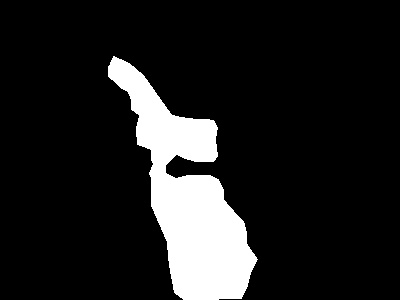Fire: (108, 51, 171, 126)
